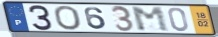0: (167, 7, 190, 33)
3: (27, 4, 53, 32), (111, 5, 135, 33)
6: (83, 7, 107, 31)
M: (130, 6, 172, 33)
O: (53, 5, 84, 31)
